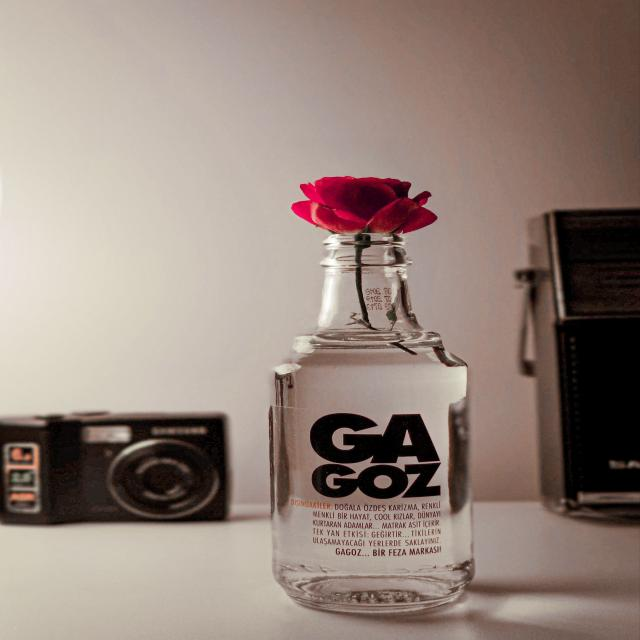Bottle: (270, 233, 473, 613)
